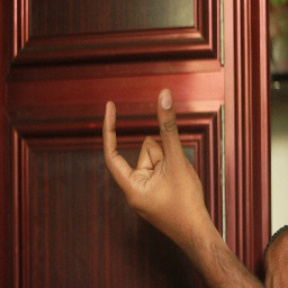U: (98, 81, 199, 220)
